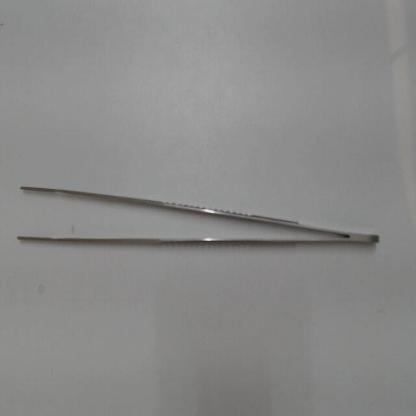DeBakey Dissector: (4, 173, 391, 263)
